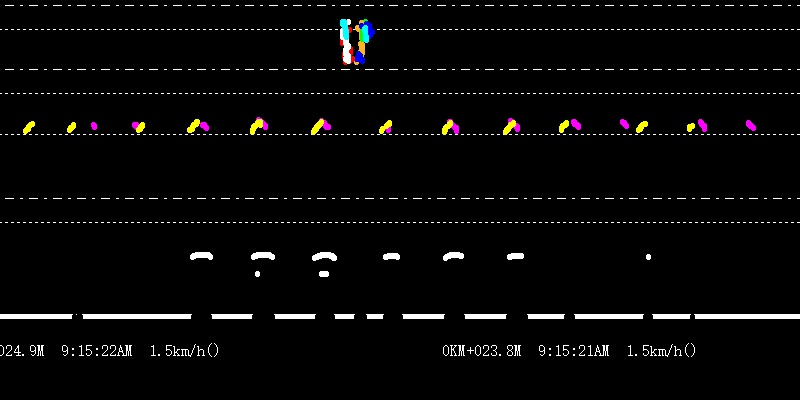J: (338, 2, 376, 65)
y_p: (175, 111, 536, 268)
